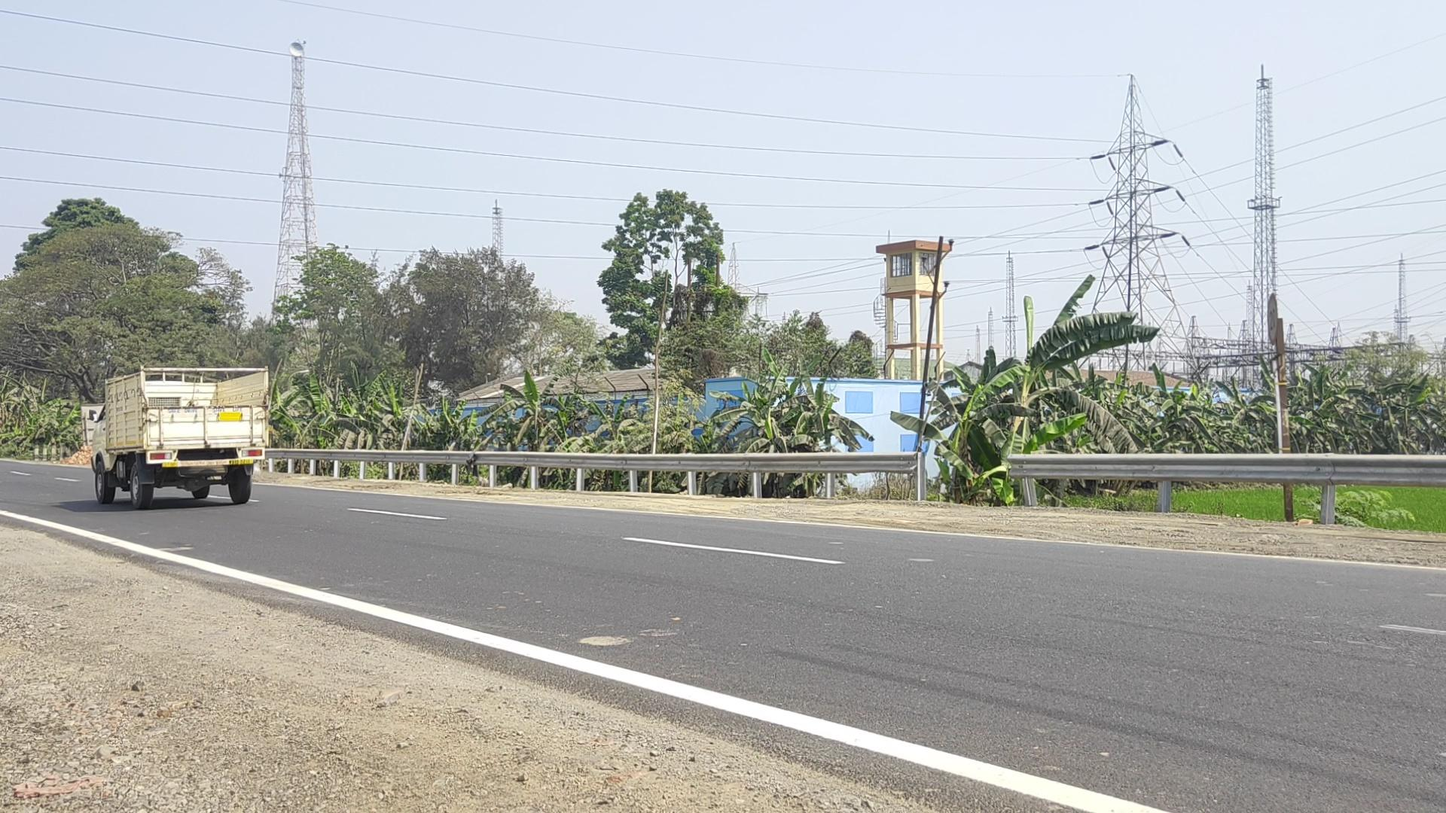van: (89, 364, 270, 510)
